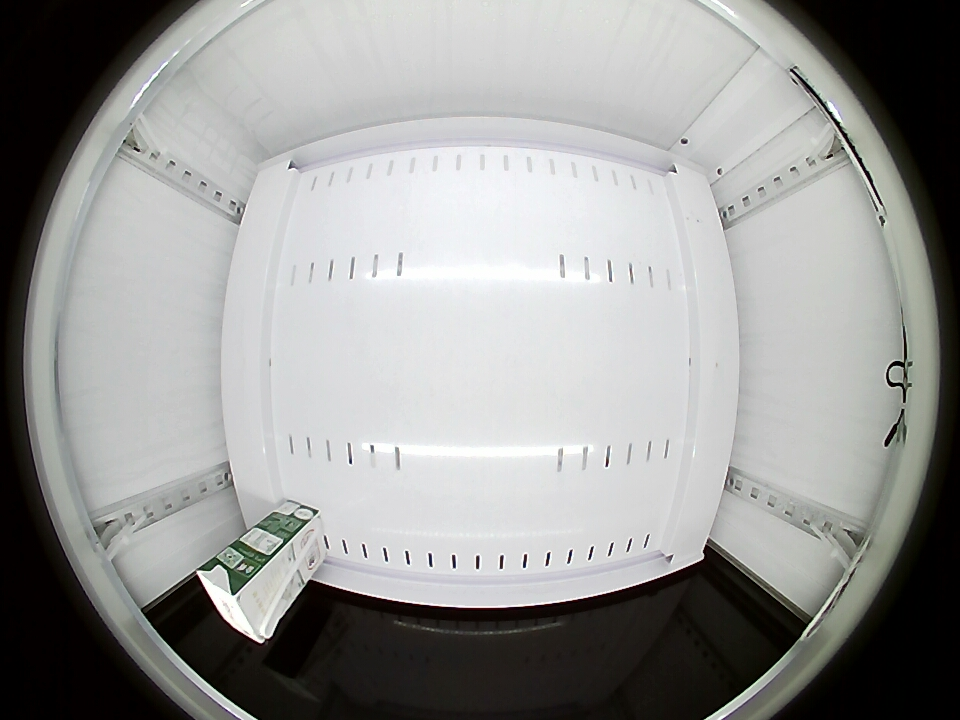jindian: (197, 545, 285, 644)
